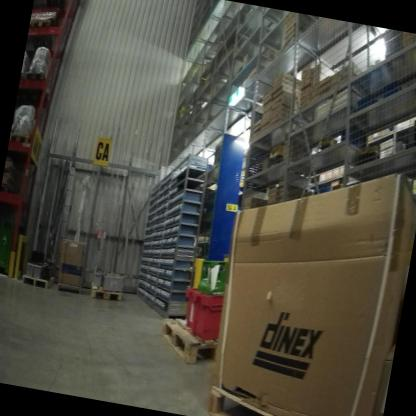pallet: (204, 372, 385, 416), (153, 303, 247, 373), (27, 12, 60, 53), (22, 66, 55, 100), (86, 278, 126, 306), (7, 130, 39, 158), (18, 270, 54, 292), (39, 0, 65, 15)
small_load_carrier: (187, 280, 243, 348), (177, 281, 209, 338)
